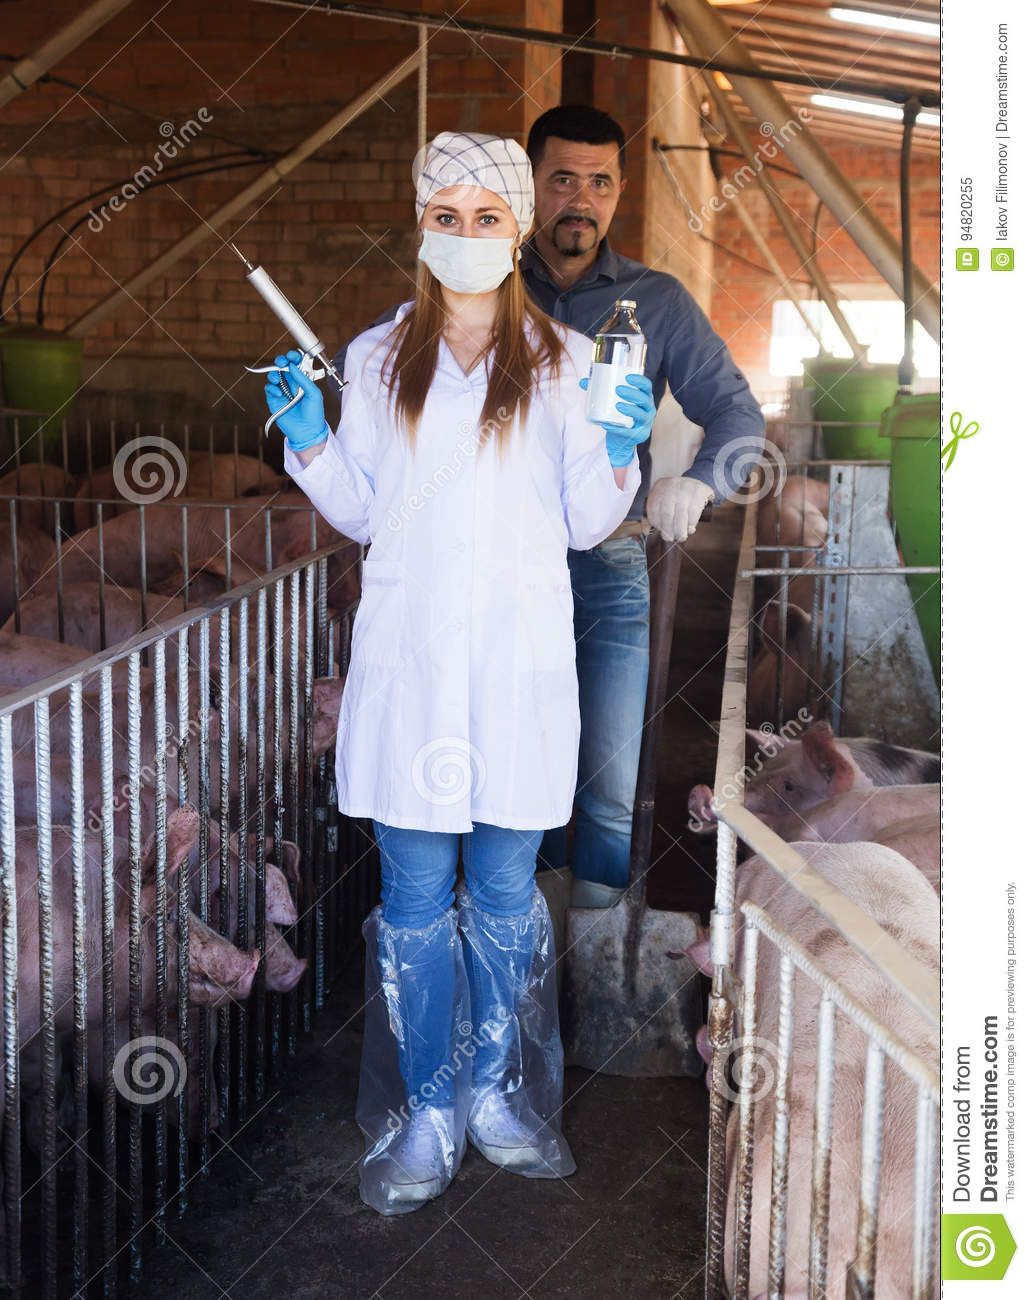mask: (409, 227, 519, 303)
